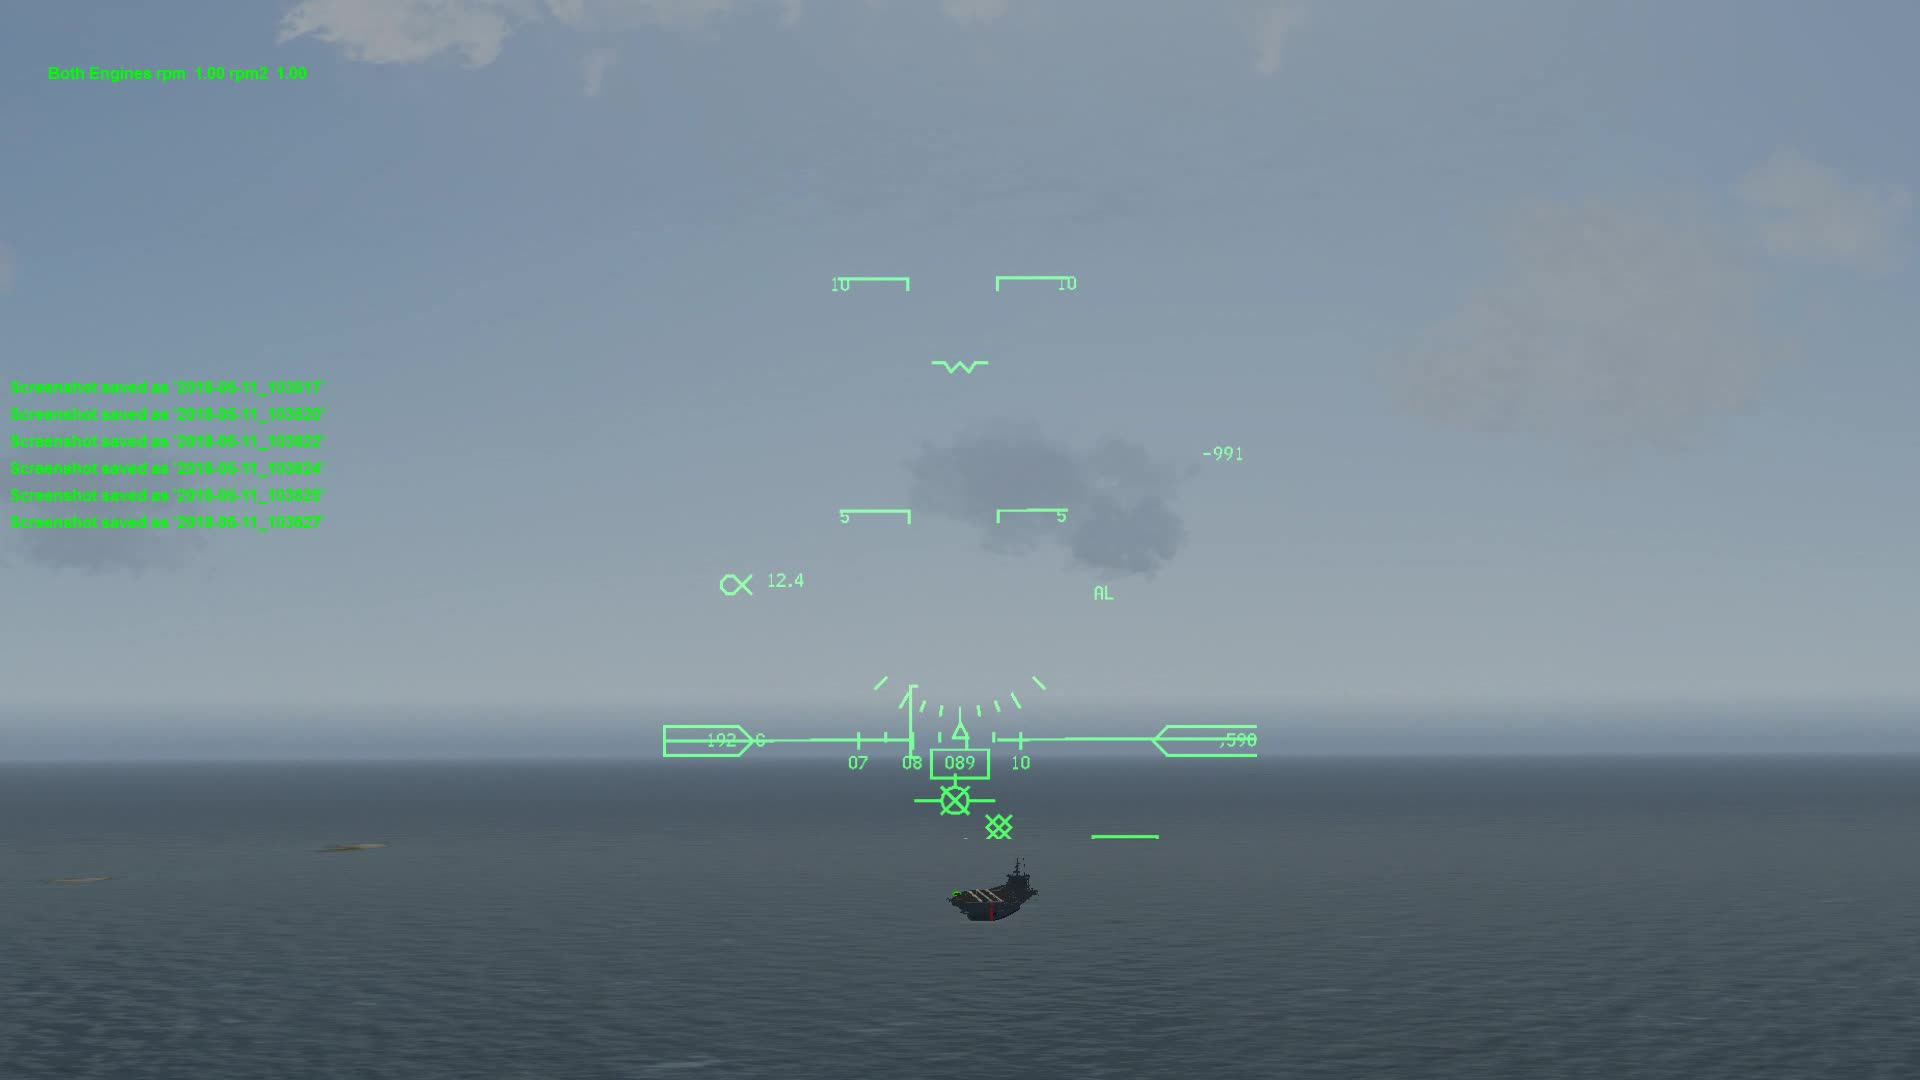speed vector: (936, 777, 985, 824)
